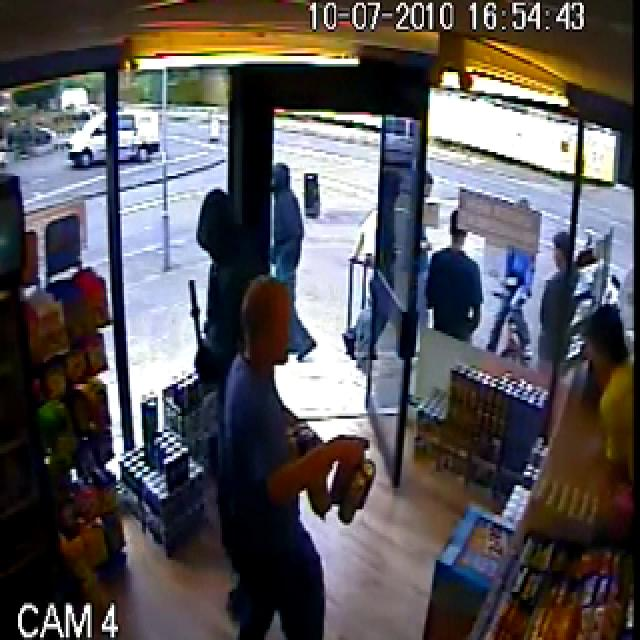vandalism: (185, 44, 523, 536)
